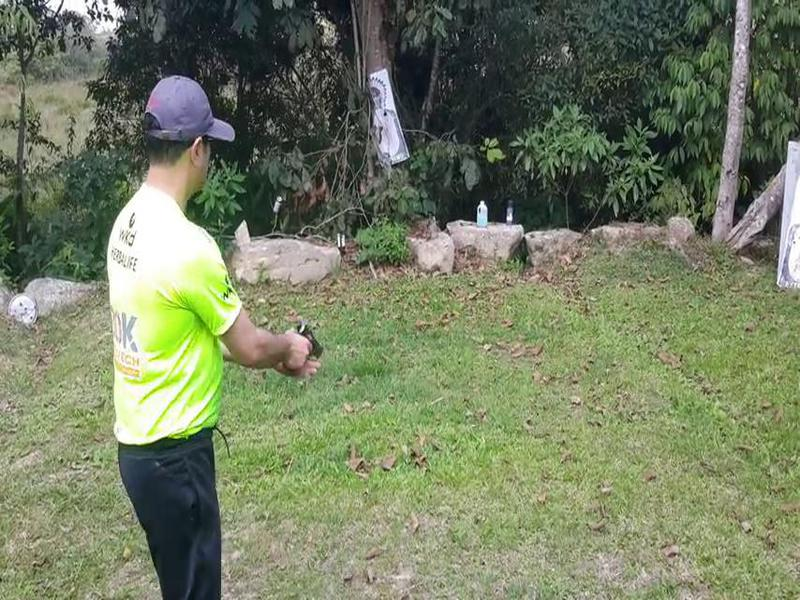Pistola: (285, 319, 334, 374)
